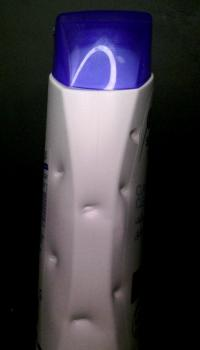dent_unacceptable: (77, 199, 105, 222), (102, 279, 130, 302), (64, 311, 99, 329), (46, 240, 66, 269), (48, 155, 68, 182), (126, 122, 144, 150), (116, 174, 134, 199)
